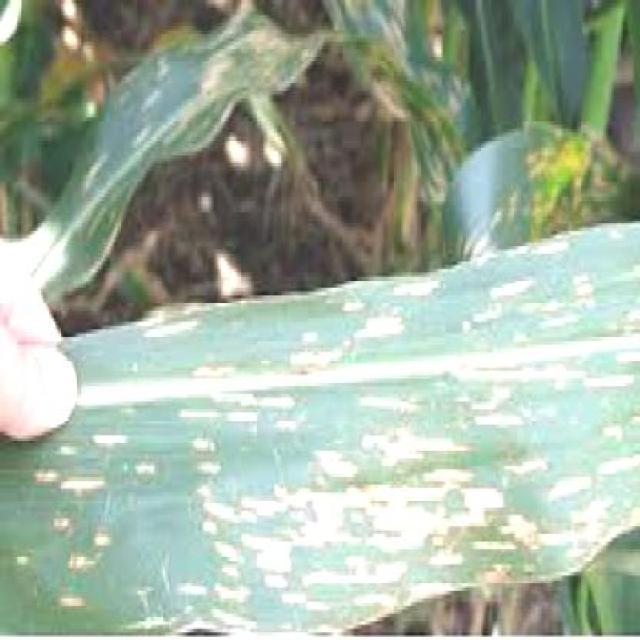Corn_Grey_Leaf_Spot: (107, 209, 640, 640)
